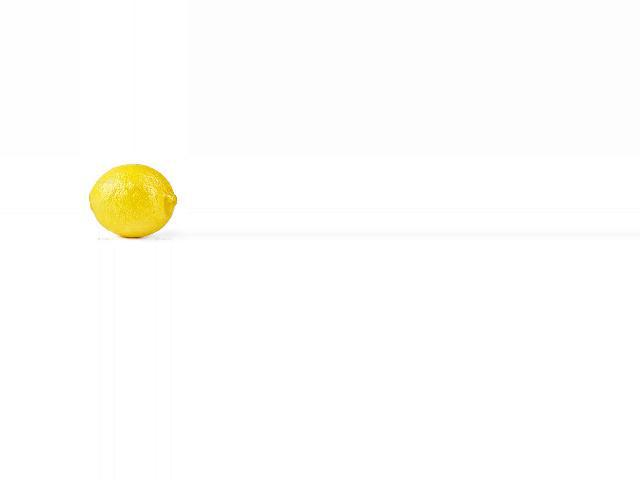lemon: (79, 162, 190, 239)
